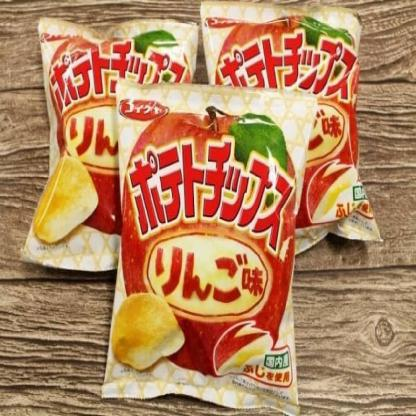potatochip: (100, 74, 320, 416), (194, 0, 387, 274), (18, 13, 202, 292)
